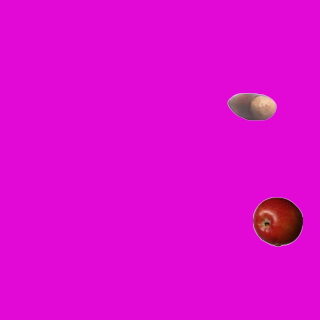Apple Braeburn: (252, 196, 302, 246)
Hazelnut: (226, 81, 276, 131)
